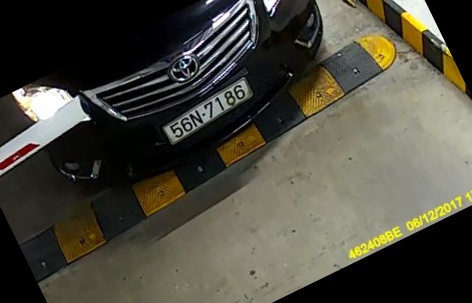plate: (152, 72, 272, 157)
